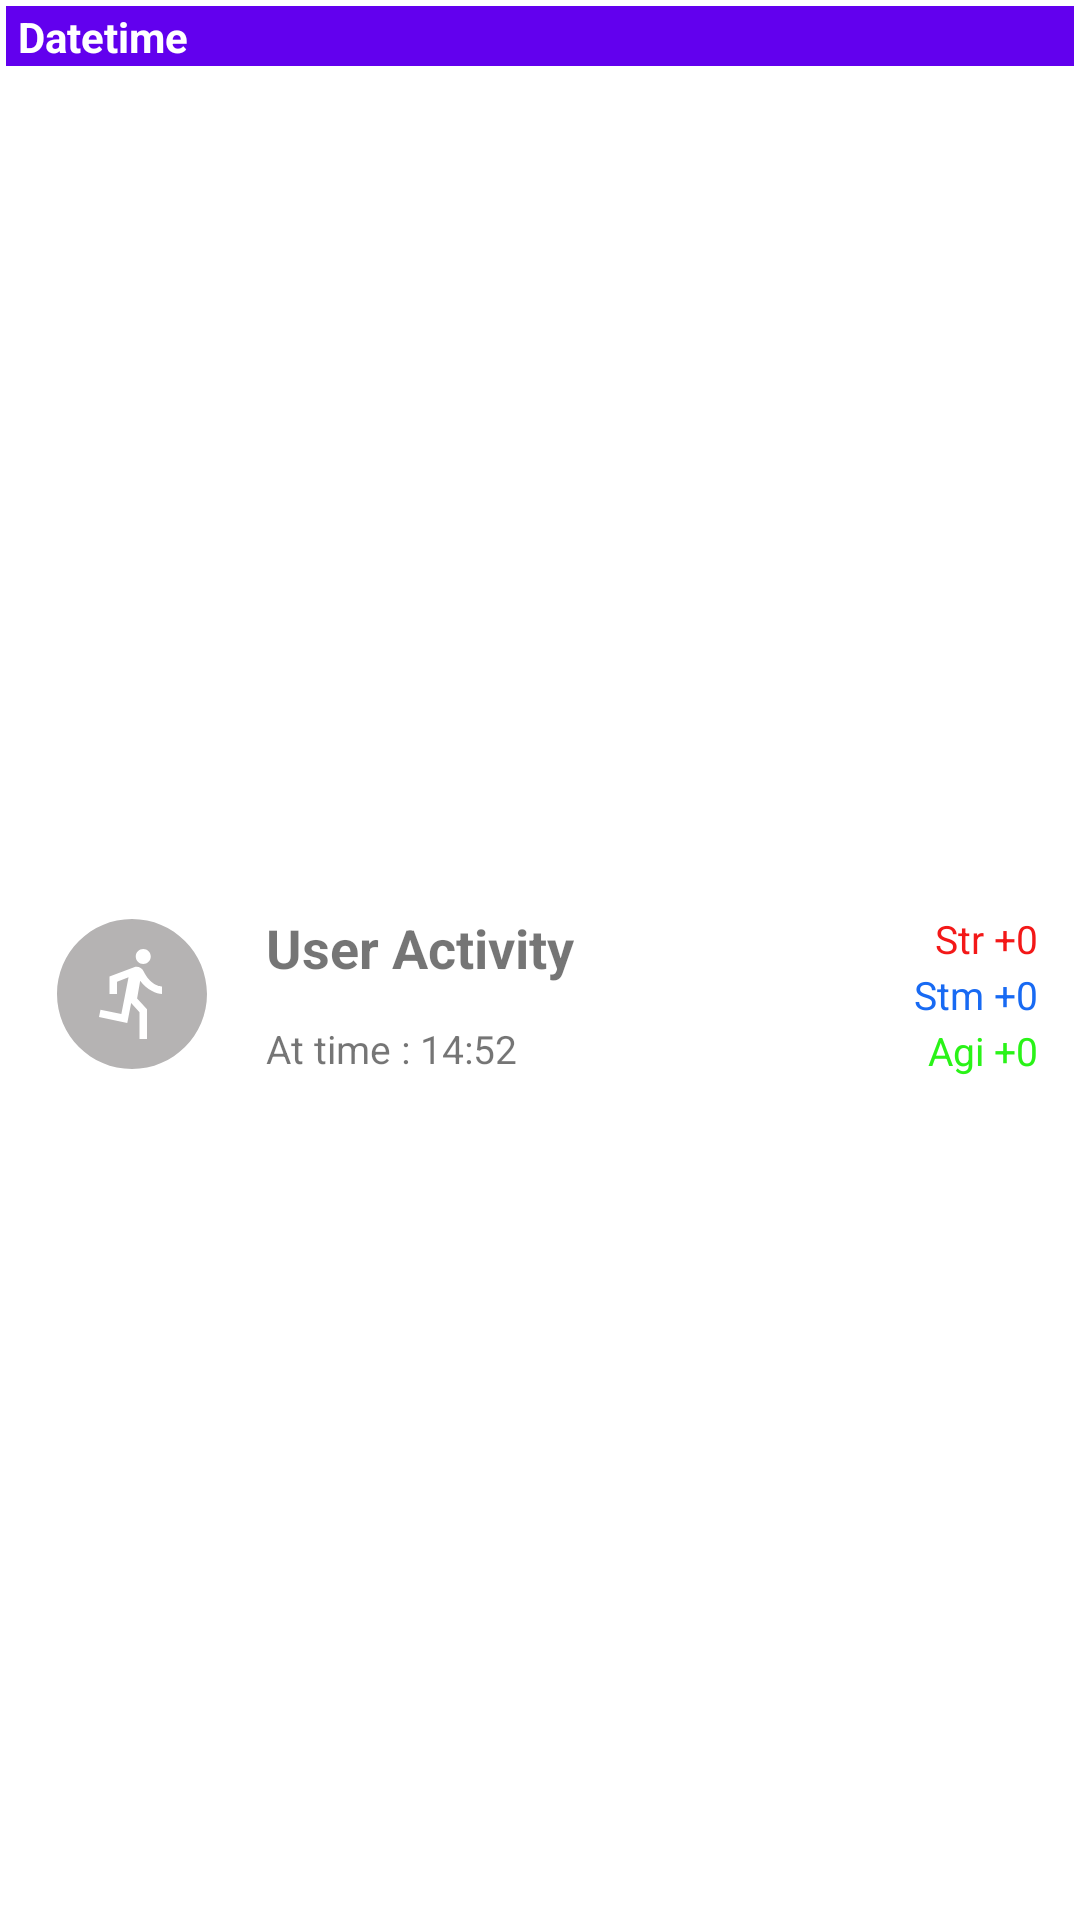

Locate icon controls on the screen. Image size 1080px x 1920px, boxes as box(x1, y1, x2, y2).
run circle: box(57, 919, 207, 1069)
